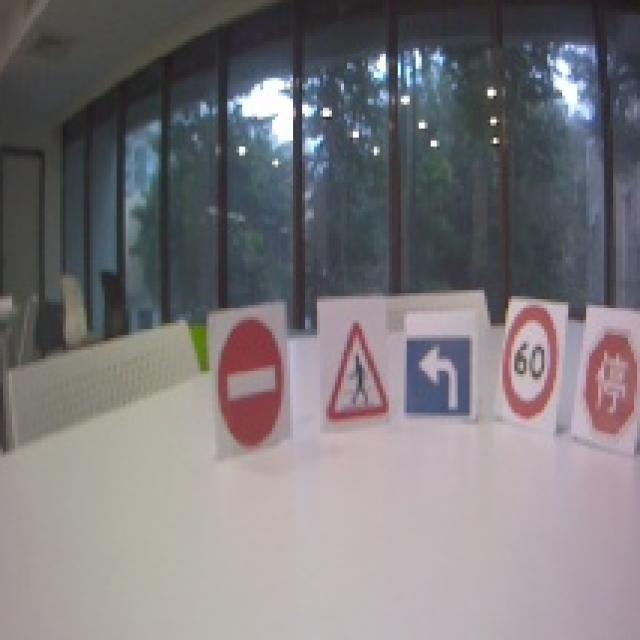DoNotEnterSign: (218, 316, 286, 451)
